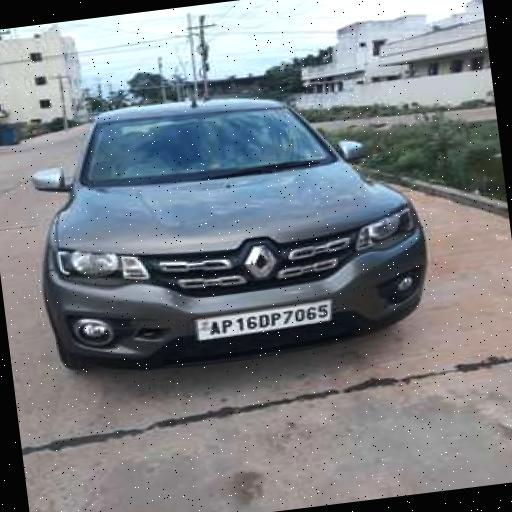license_plate`: (193, 298, 330, 338)
